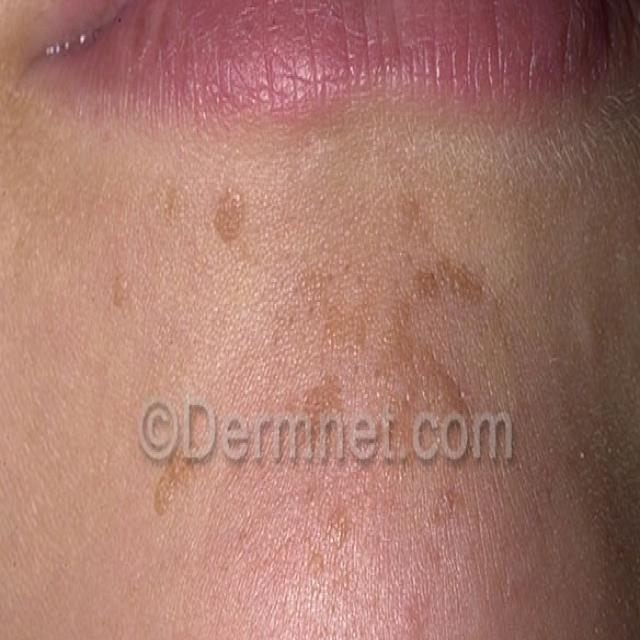Warts: (292, 217, 503, 529), (133, 389, 205, 563), (193, 170, 252, 265)
